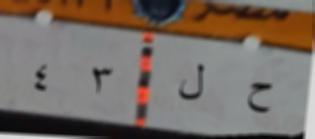3: (80, 57, 120, 96)
4: (30, 60, 53, 95)
7aa: (236, 75, 282, 120)
laam: (168, 60, 212, 101)
